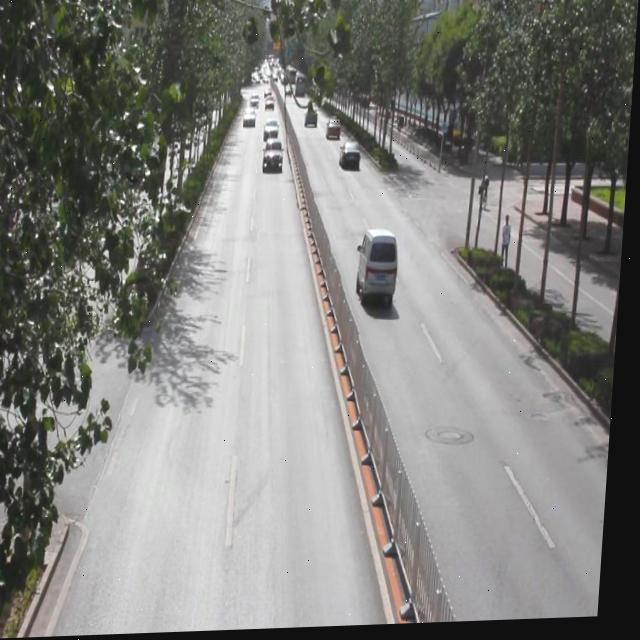car: (263, 136, 285, 172), (340, 141, 363, 173), (264, 118, 281, 144), (326, 117, 343, 142), (305, 107, 320, 130), (243, 106, 257, 129)
truck: (359, 230, 401, 305)
